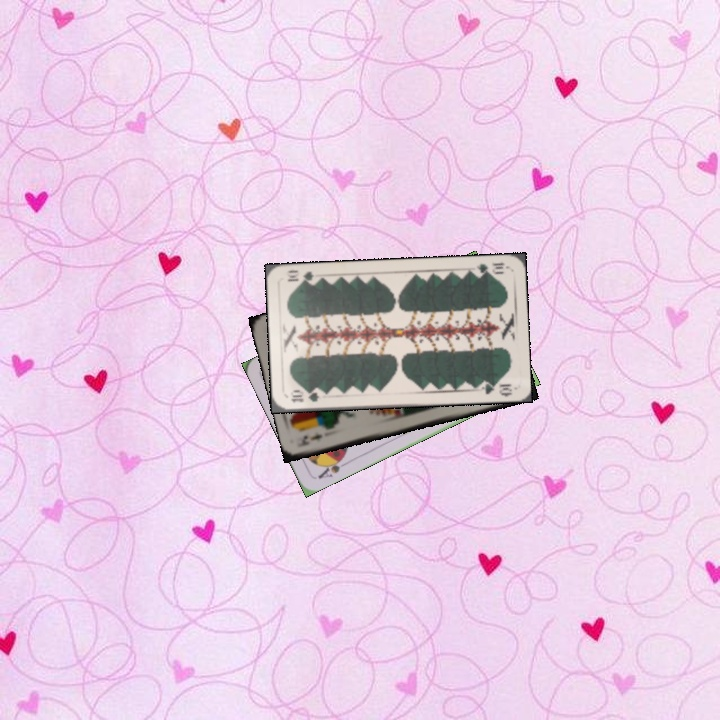EK: (296, 429, 325, 449)
G10: (469, 259, 507, 278), (287, 387, 322, 405)
SA: (314, 452, 351, 482)
